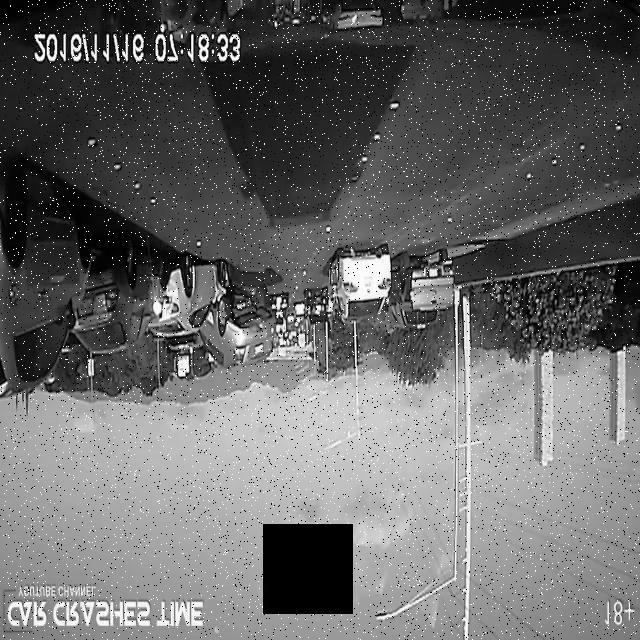severe: (164, 255, 278, 373)
